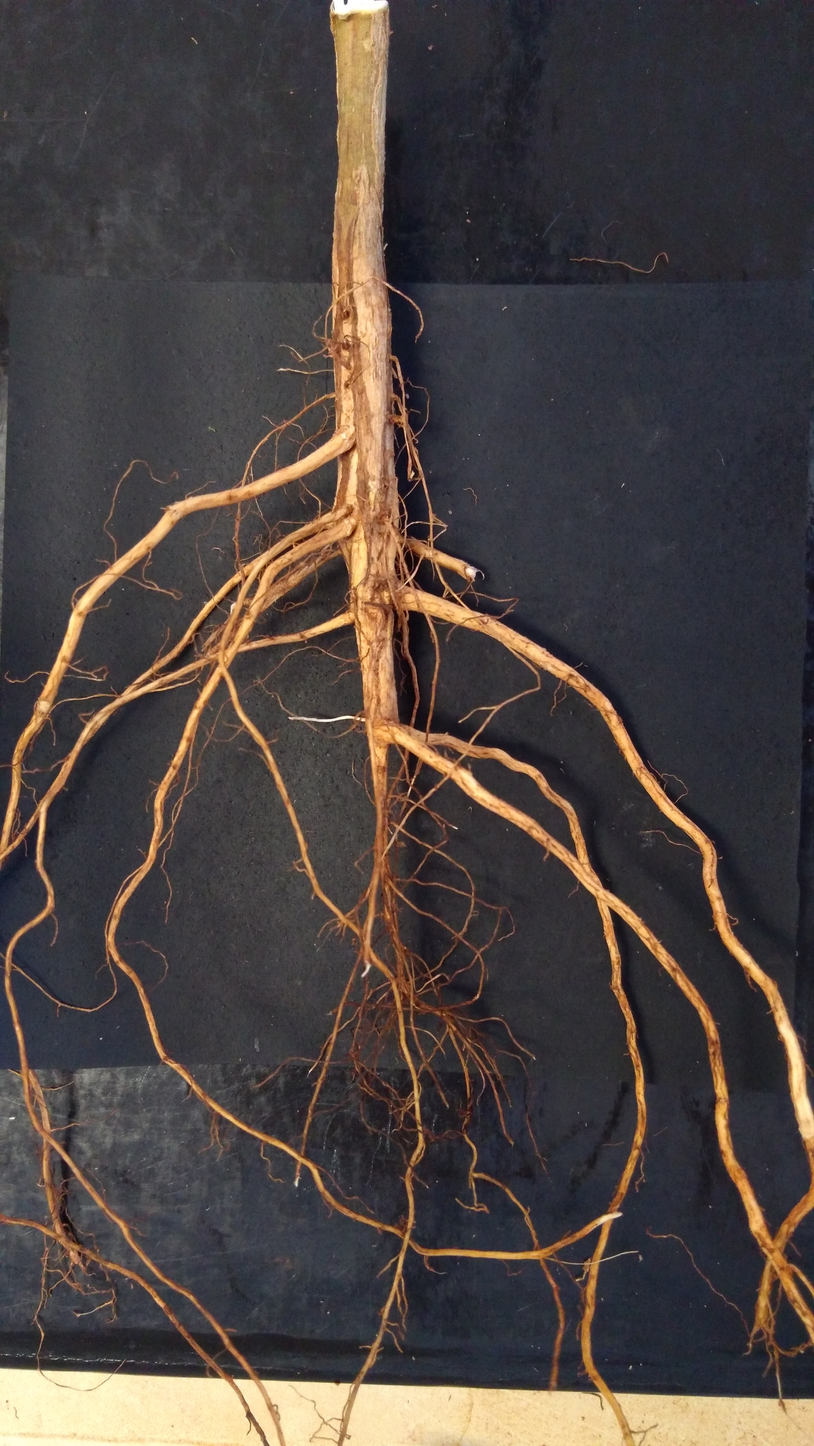nodule: (397, 1218, 417, 1235), (228, 627, 249, 642), (326, 337, 339, 359), (581, 1258, 591, 1272), (243, 596, 254, 606), (405, 393, 409, 399), (448, 510, 452, 514)
